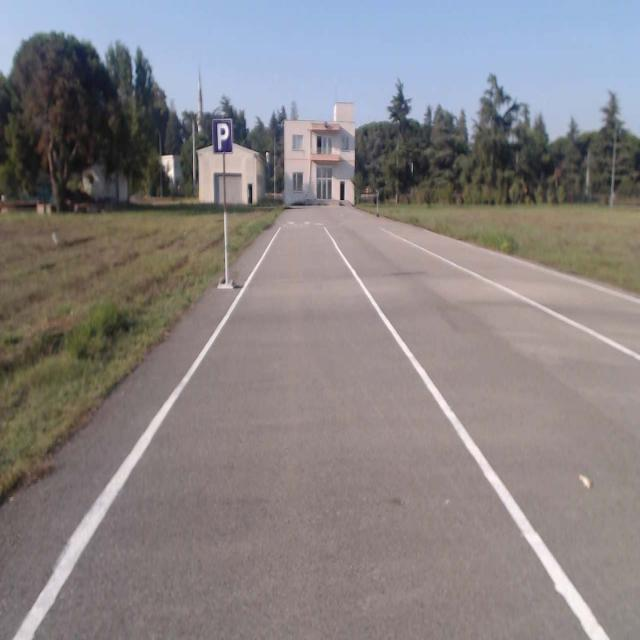park: (212, 120, 232, 153)
